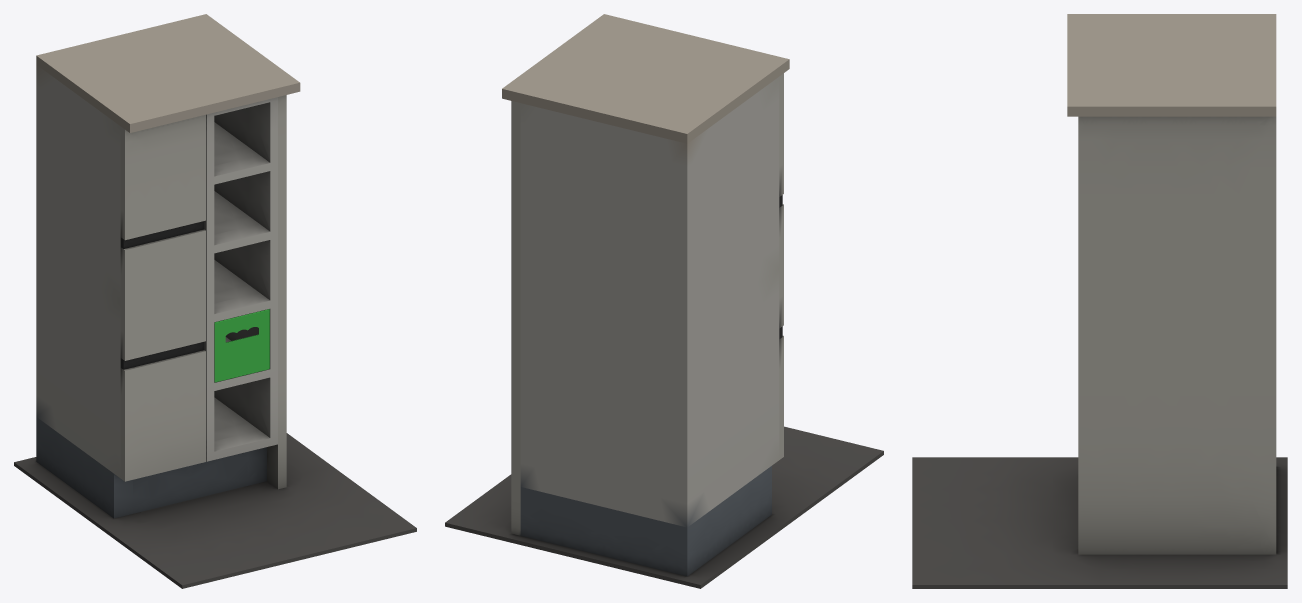
Rendered from cajones_tapa_costillas_pasante.glb.
3 renders of one model, left to right at view 1: azimuth 30°, elevation 25°; view 2: azimuth 150°, elevation 25°; view 3: azimuth 270°, elevation 25°, orthographic. The views are drawn at different scales.
Visible parts, largest first — view 1: cajones_tapa_costillas_pasante; view 2: cajones_tapa_costillas_pasante; view 3: cajones_tapa_costillas_pasante.
Part boxes in pixels (x1,y1,x2,y2): cajones_tapa_costillas_pasante: (14,14,416,588); cajones_tapa_costillas_pasante: (445,14,883,588); cajones_tapa_costillas_pasante: (912,14,1287,588).
Bounding box in the file's own units: 0.546 × 0.911 × 0.678.
